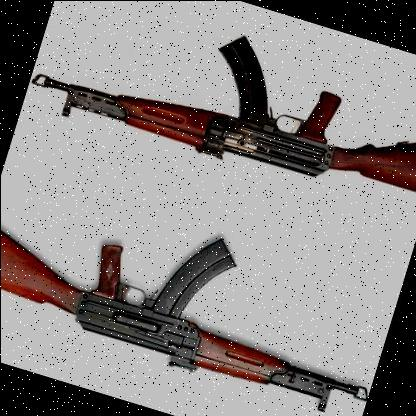rifle: (18, 0, 416, 254), (0, 183, 397, 416)
